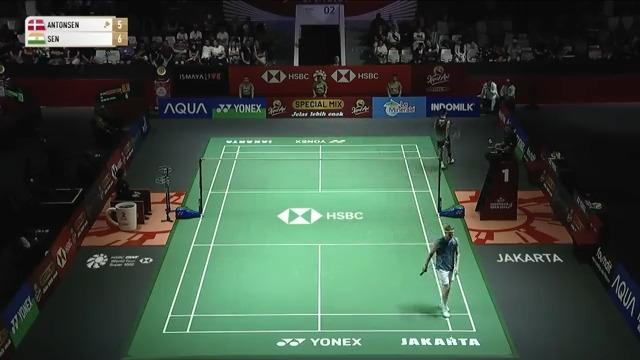Shuttlecock: (449, 334, 457, 342)
